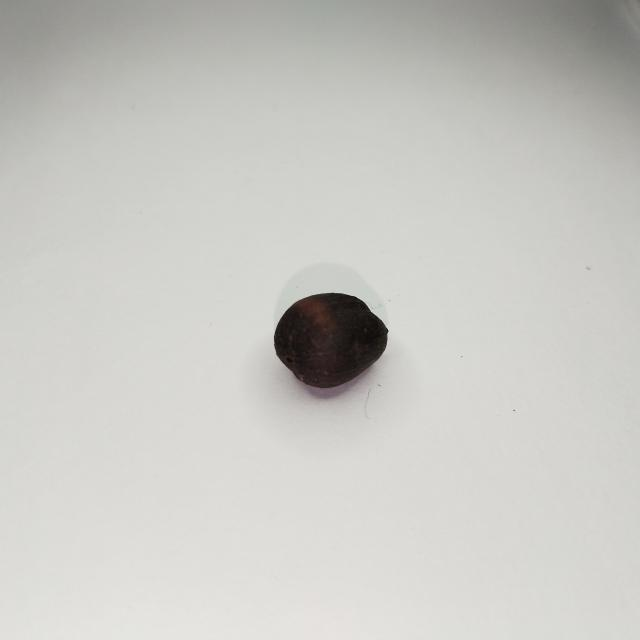Danado: (274, 293, 387, 388)
